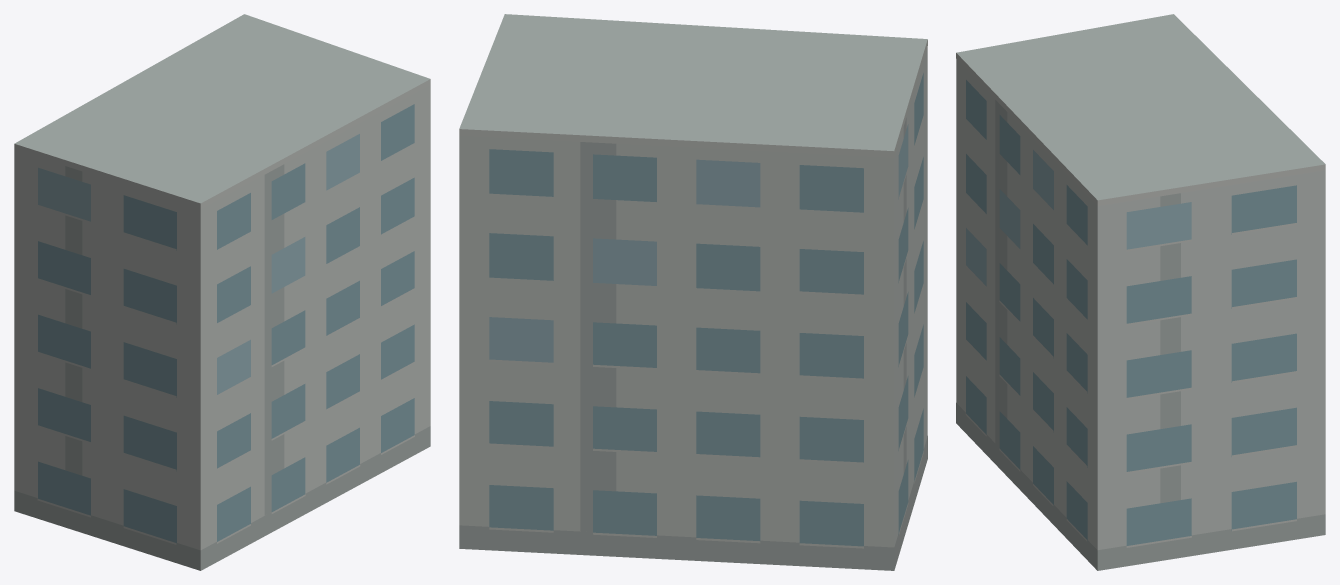
The model's file is survey-upis-32643702.glb.
3 renders of one model, left to right at view 1: azimuth 30°, elevation 25°; view 2: azimuth 150°, elevation 25°; view 3: azimuth 270°, elevation 25°, orthographic. The views are drawn at different scales.
Parts seen in each view (by area): view 1: survey-upis-32643702.tmp; view 2: survey-upis-32643702.tmp; view 3: survey-upis-32643702.tmp.
Part boxes in pixels (left/top/right/bottom): survey-upis-32643702.tmp: left=14, top=14, right=430, bottom=570; survey-upis-32643702.tmp: left=459, top=14, right=927, bottom=570; survey-upis-32643702.tmp: left=956, top=14, right=1325, bottom=570.
Bounding box in the file's own units: 16.46 × 15.25 × 13.79.
